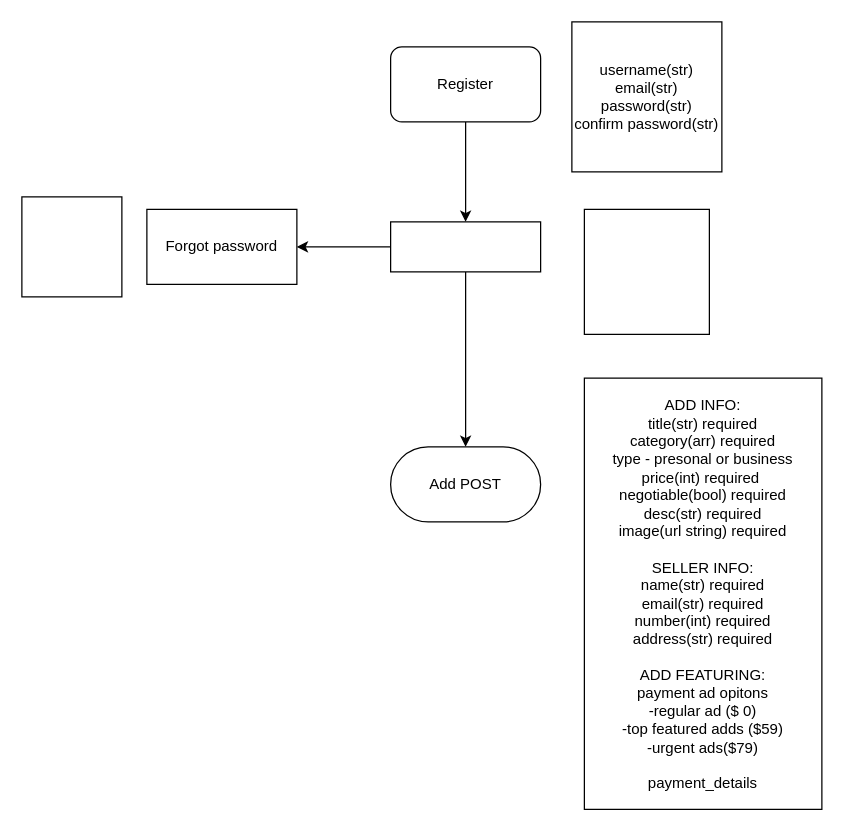
The diagram is 844 pixels wide and 831 high, and some of its shapes have lost their labels. Here are the shapes that lost their labels. From the top down, the centre of each, then its label:
At (71,246): "email".
At (465,246): "Login".
At (646,271): "email(str) password(str)".
